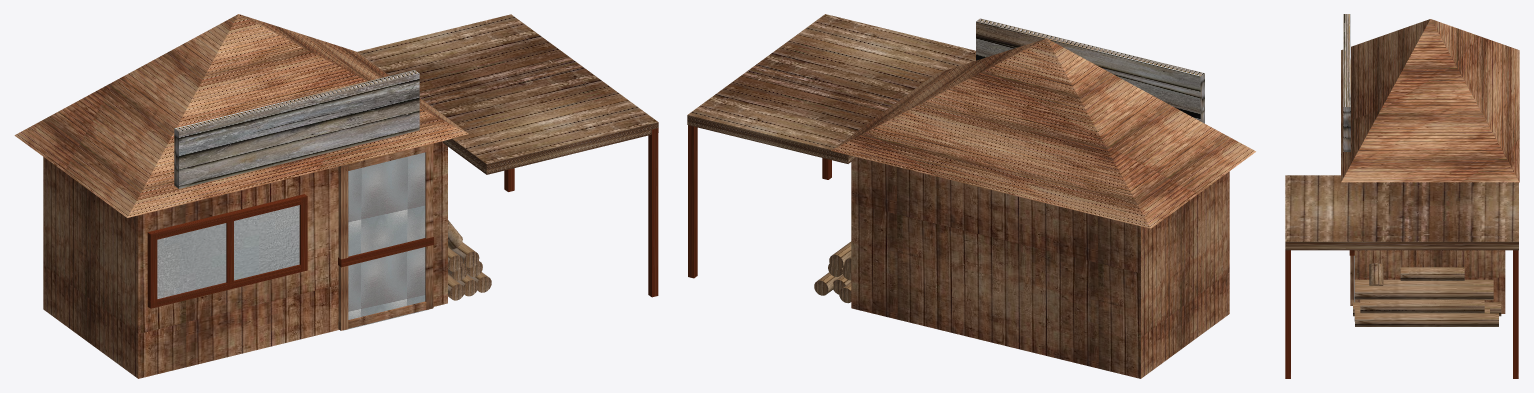
File: house1.fbx
The picture shows the model from 3 angles, left to right: view 1: azimuth 30°, elevation 25°; view 2: azimuth 150°, elevation 25°; view 3: azimuth 270°, elevation 25°; orthographic projection. The views are drawn at different scales.
Parts seen in each view (by area): view 1: pCube1, pPyramid1, pCube15, pCube14, pCube8, pCube2, pCube17, pCube9, pCube5, pCube10, pCube6, pCube13 (+5 smaller); view 2: pCube1, pPyramid1, pCube15, pCube14, pCube16; view 3: pPyramid1, pCube15, pCube1, pCylinder3, pCylinder8, pCylinder2, pCube14, pCylinder10, pCube16, pCube17, pCylinder7, pCylinder6 (+2 smaller).
Part boxes in pixels (x1,y1,x2,y2): pCube1: [43, 141, 447, 378]; pPyramid1: [14, 14, 468, 217]; pCube15: [357, 14, 658, 174]; pCube14: [174, 70, 419, 188]; pCube8: [343, 152, 428, 330]; pCube2: [157, 205, 299, 298]; pCube17: [648, 128, 658, 297]; pCube9: [338, 166, 348, 330]; pCube5: [147, 194, 307, 240]; pCube10: [425, 145, 433, 309]; pCube6: [147, 264, 307, 308]; pCube13: [338, 237, 433, 267]; pCube1: [851, 157, 1229, 378]; pPyramid1: [831, 38, 1255, 228]; pCube15: [687, 14, 975, 163]; pCube14: [976, 18, 1204, 123]; pCube16: [688, 125, 697, 278]; pPyramid1: [1341, 19, 1519, 182]; pCube15: [1285, 175, 1518, 250]; pCube1: [1354, 250, 1505, 313]; pCylinder3: [1355, 313, 1498, 326]; pCylinder8: [1354, 286, 1493, 299]; pCylinder2: [1360, 299, 1484, 313]; pCube14: [1343, 14, 1350, 151]; pCylinder10: [1400, 267, 1464, 280]; pCube16: [1513, 250, 1518, 378]; pCube17: [1285, 250, 1290, 378]; pCylinder7: [1354, 279, 1493, 285]; pCylinder6: [1362, 299, 1475, 313].
Size of the model in its own units: 28.63 by 16.25 by 14.8.
8 materials, 7 textured.
